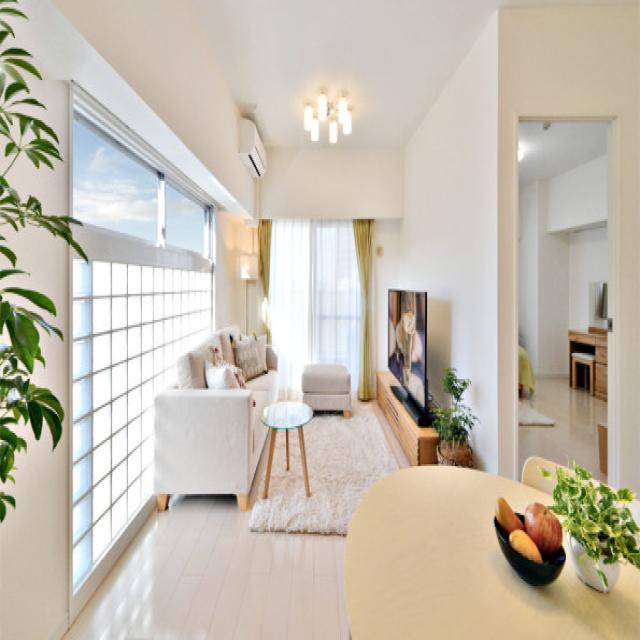natural desk: (345, 461, 639, 640), (258, 396, 315, 500)
natural sofa: (152, 325, 271, 516)
